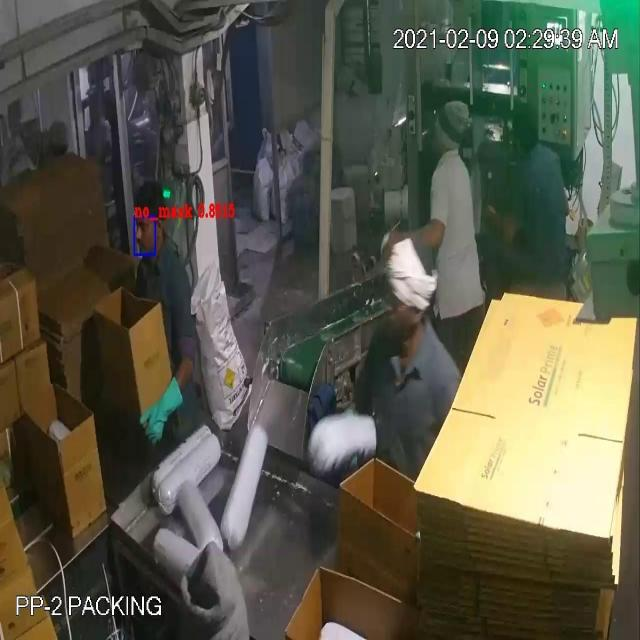Gloves: (50, 46, 495, 406)
